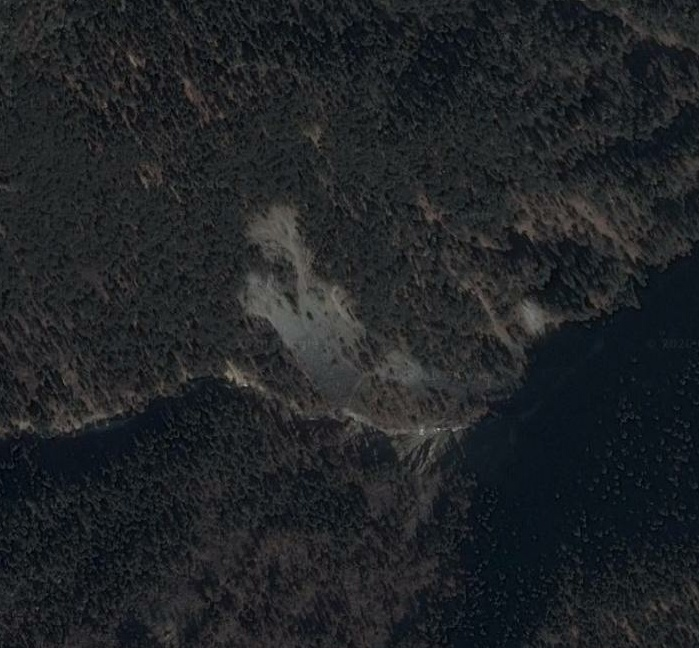slope: (233, 200, 501, 467)
